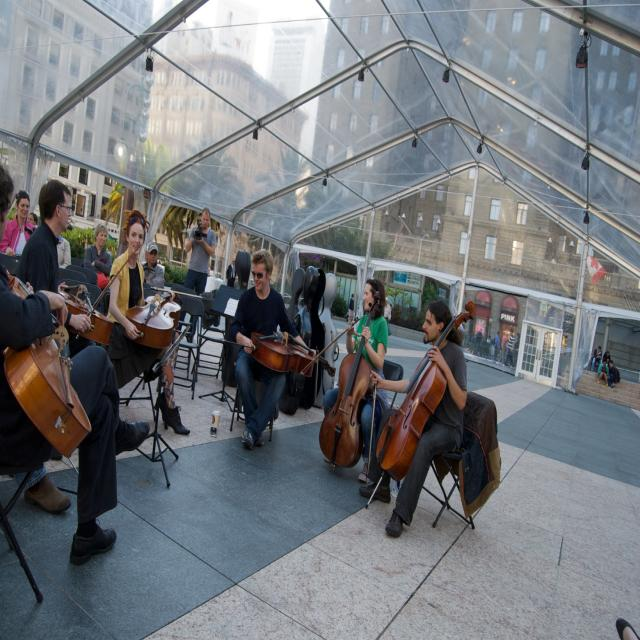cello: (0, 264, 98, 467), (375, 298, 478, 484), (319, 291, 386, 471), (54, 278, 115, 351), (247, 329, 338, 376), (122, 293, 186, 351)
